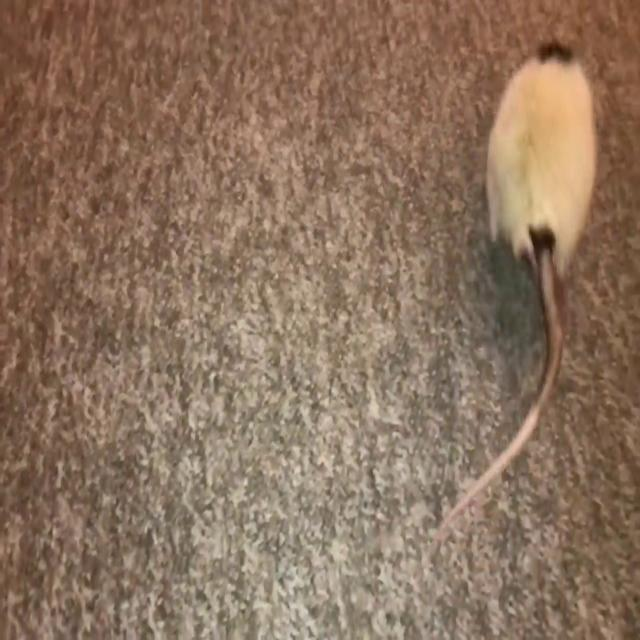rat: (479, 40, 606, 399)
